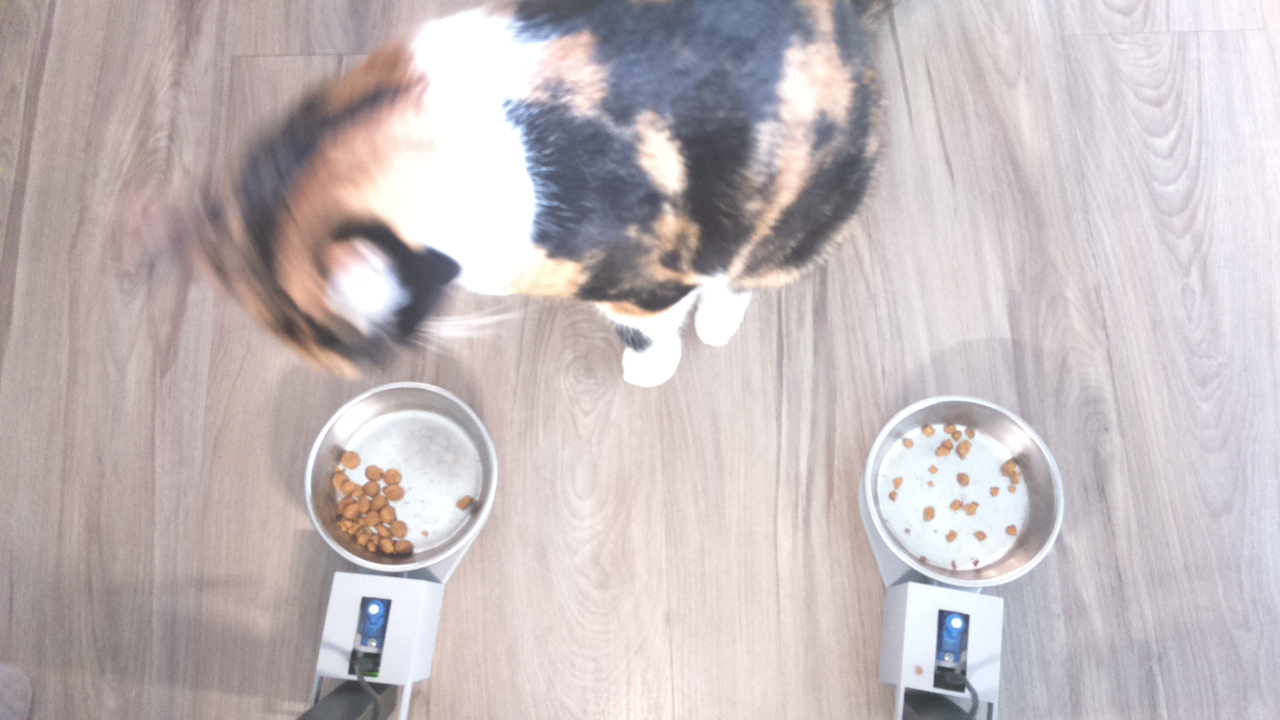bella: (130, 71, 458, 378)
open_bowl: (856, 392, 1070, 593), (304, 378, 504, 579)
